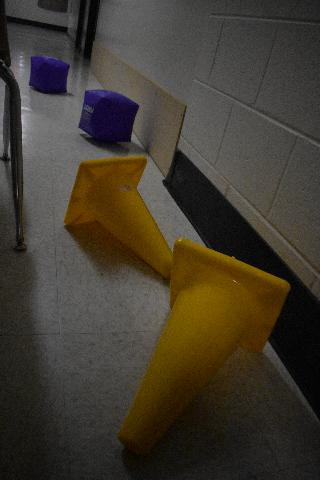cone: (117, 238, 290, 456), (65, 156, 173, 278)
cube: (78, 90, 140, 142), (29, 55, 70, 93)
